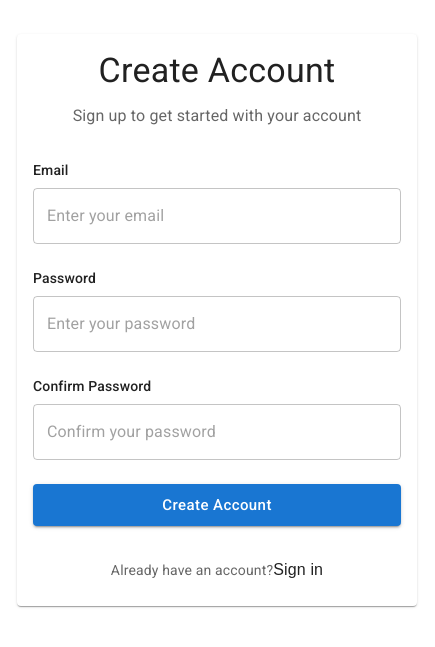
Test: SignUpForm › shows error if passwords do not match
In the field with test id "signup-email-input": [217, 216] box left=33, top=188, right=401, bottom=244, type "test@example.com"
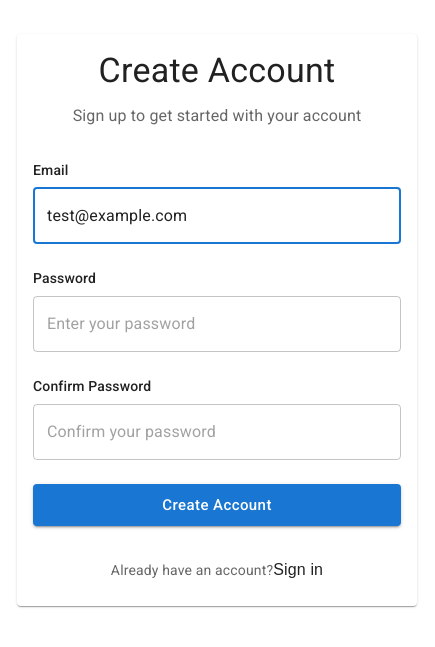
In the password field with test id "signup-password-input": [217, 324] box left=33, top=296, right=401, bottom=352, type "123456"
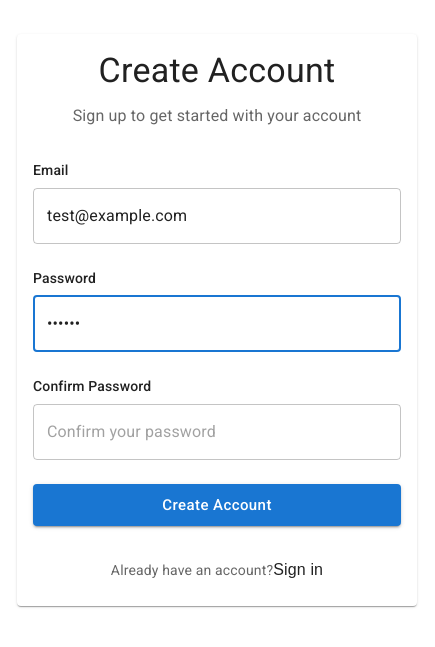
In the password field with test id "signup-confirm-password-input": [217, 432] box left=33, top=404, right=401, bottom=460, type "654321"
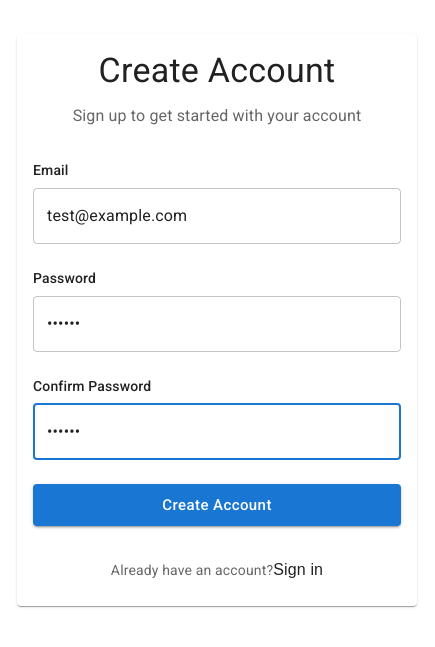
Submit the form with test id "signup-form", box left=33, top=160, right=401, bottom=526
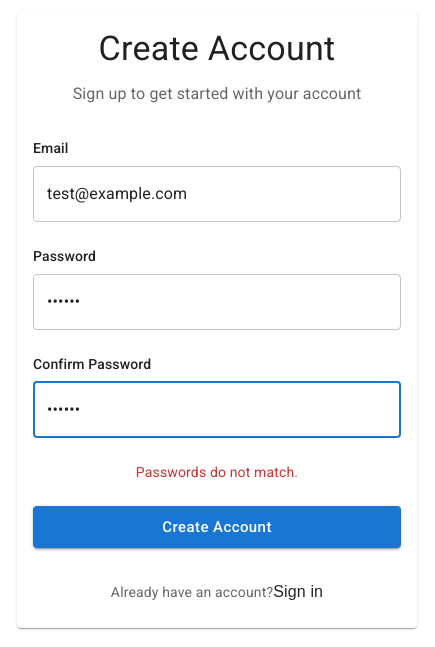
Check: the text "Passwords do not match." is shown, box left=136, top=464, right=298, bottom=480
